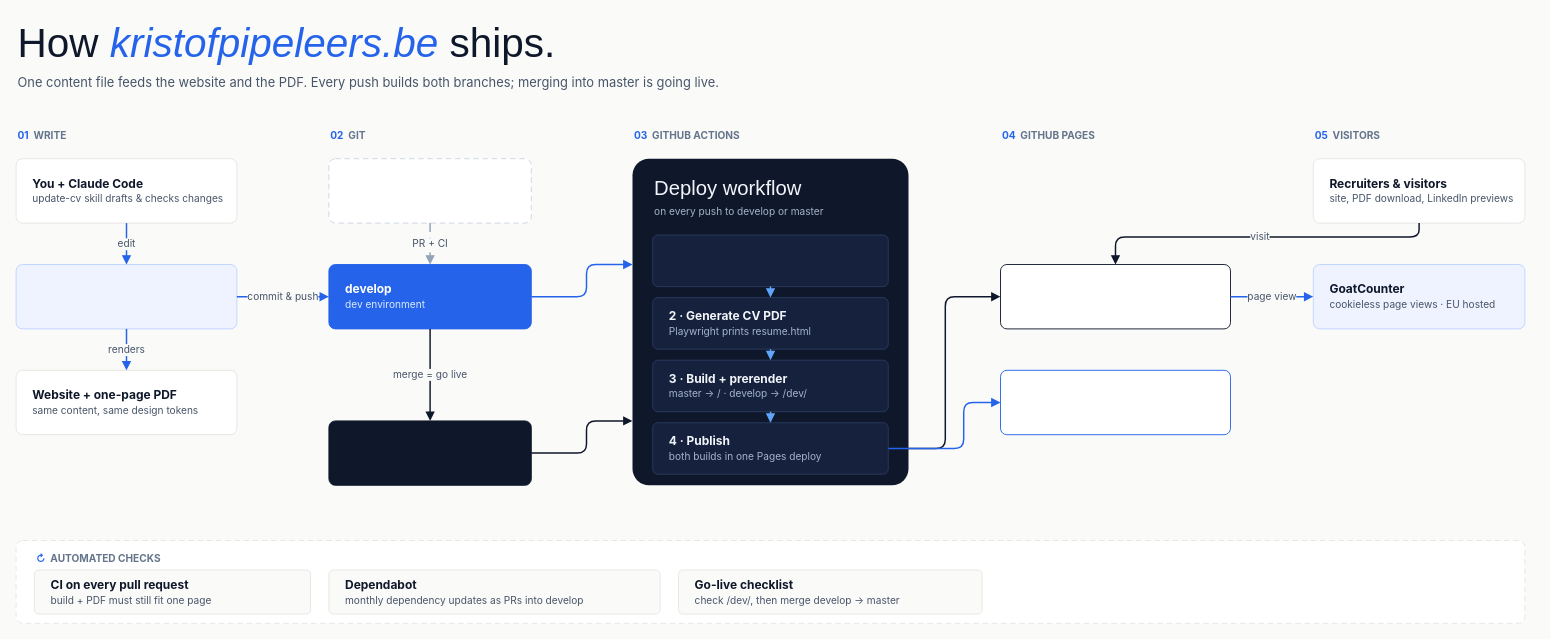
Some shapes in this 1550 by 639 pixel diagram are drawn without their labels. Each missing label, with the centre of its shape:
1 · Install npm ci: pixel 770 260
feature branch optional, for bigger changes: pixel 429 190
kristofpipeleers.be production · from master: pixel 1115 296
kristofpipeleers.be/dev/ preview · from develop · DEV badge, noindex: pixel 1115 402
master production: pixel 429 452
src/content/cv.ts single source of truth: pixel 126 296
